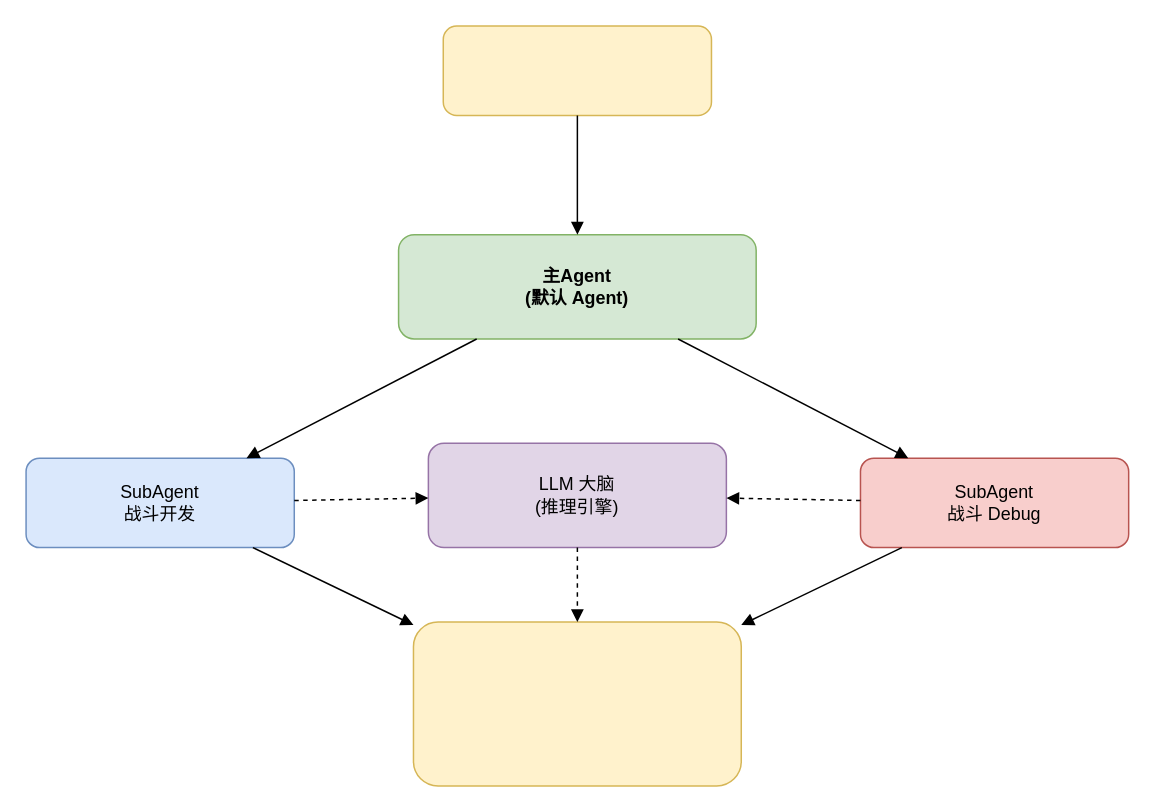
Some shapes in this 1155 by 812 pixel diagram are drawn without their labels. Here are the shapes that lost their labels. From the top down, the box of each, then its label:
(442, 25, 711, 115): 需求输入 (开发 / Debug)
(412, 621, 741, 786): RAG 知识库
